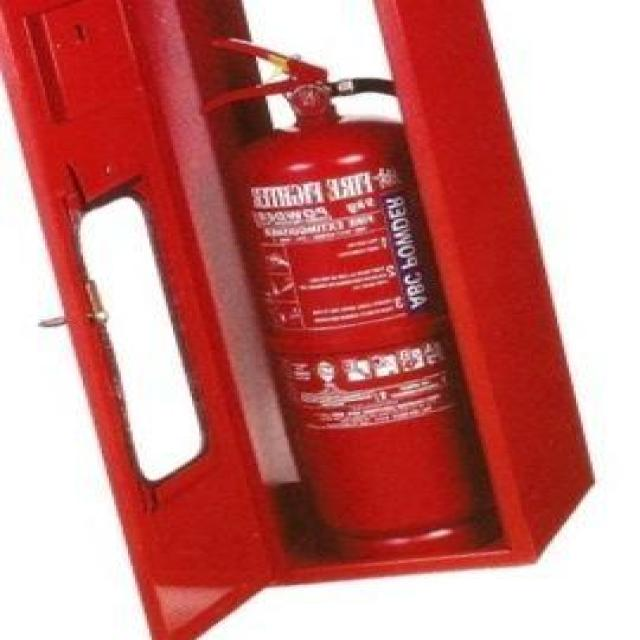fire_extinguisher: (182, 31, 516, 573)
